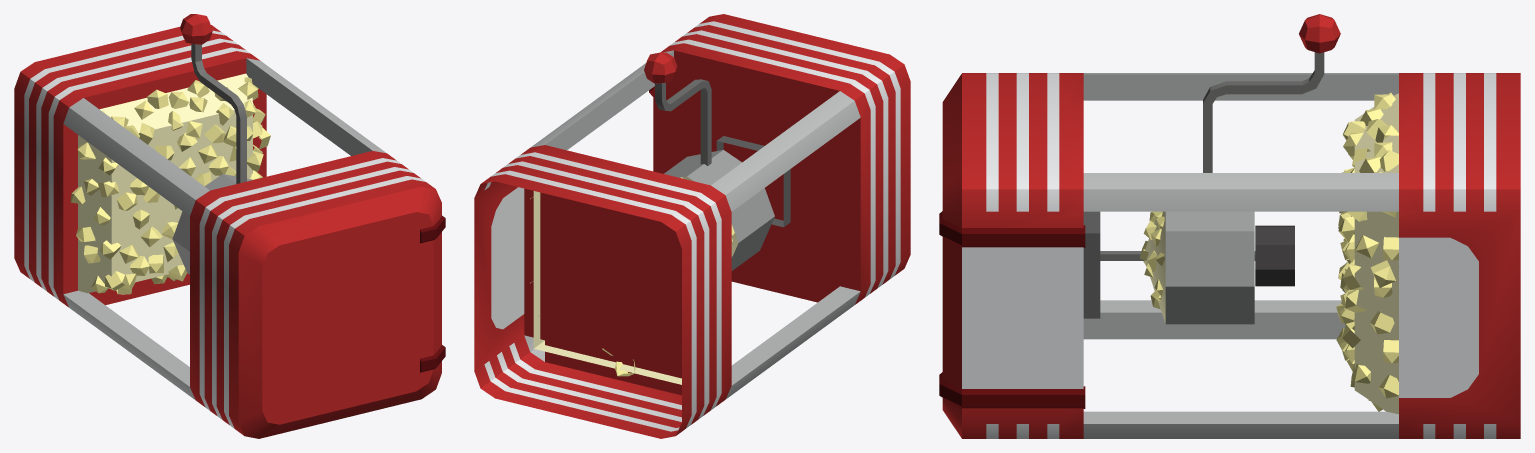
Rendered from Popcornmaschine.glb.
3 renders of one model, left to right at view 1: azimuth 30°, elevation 25°; view 2: azimuth 150°, elevation 25°; view 3: azimuth 270°, elevation 25°, orthographic. The views are drawn at different scales.
Visible parts, largest first — view 1: room.060; view 2: room.060; view 3: room.060.
Boxes of the visible parts, box(x1,y1,x2,y2) form: room.060: box(14, 14, 445, 438); room.060: box(474, 14, 910, 438); room.060: box(939, 14, 1520, 438).
Bounding box in the file's own units: 0.5476 × 0.7592 × 1.07.
Materials: 1 (1 with a texture image).
